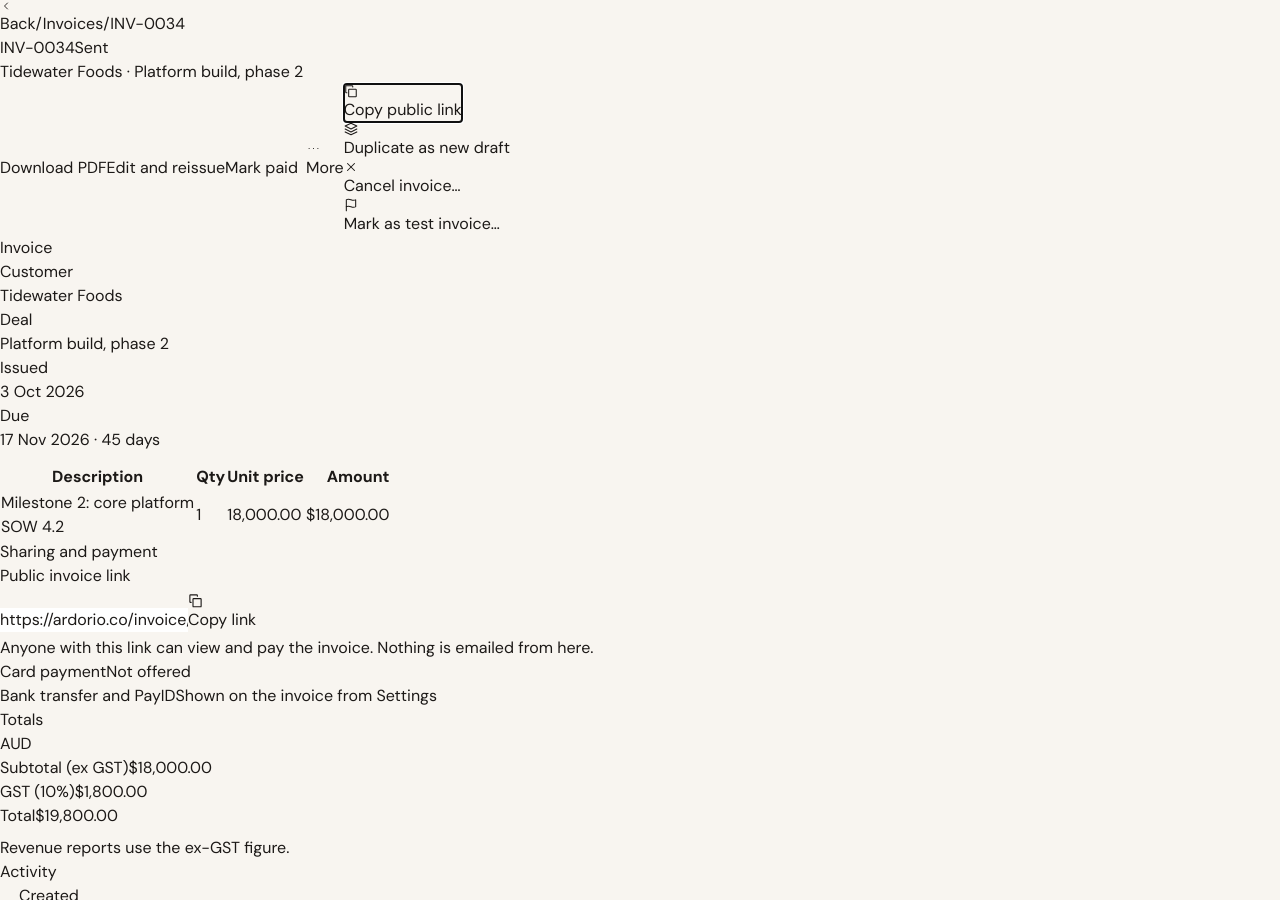
Scenario: the confirmation dialog › announces its result to assistive technology
This screenshot has width=1280, height=900.
Step 1. Click the menu item "Cancel invoice…" → {"x": 402, "y": 179}, box [344,160,461,198]
(page scrolled)
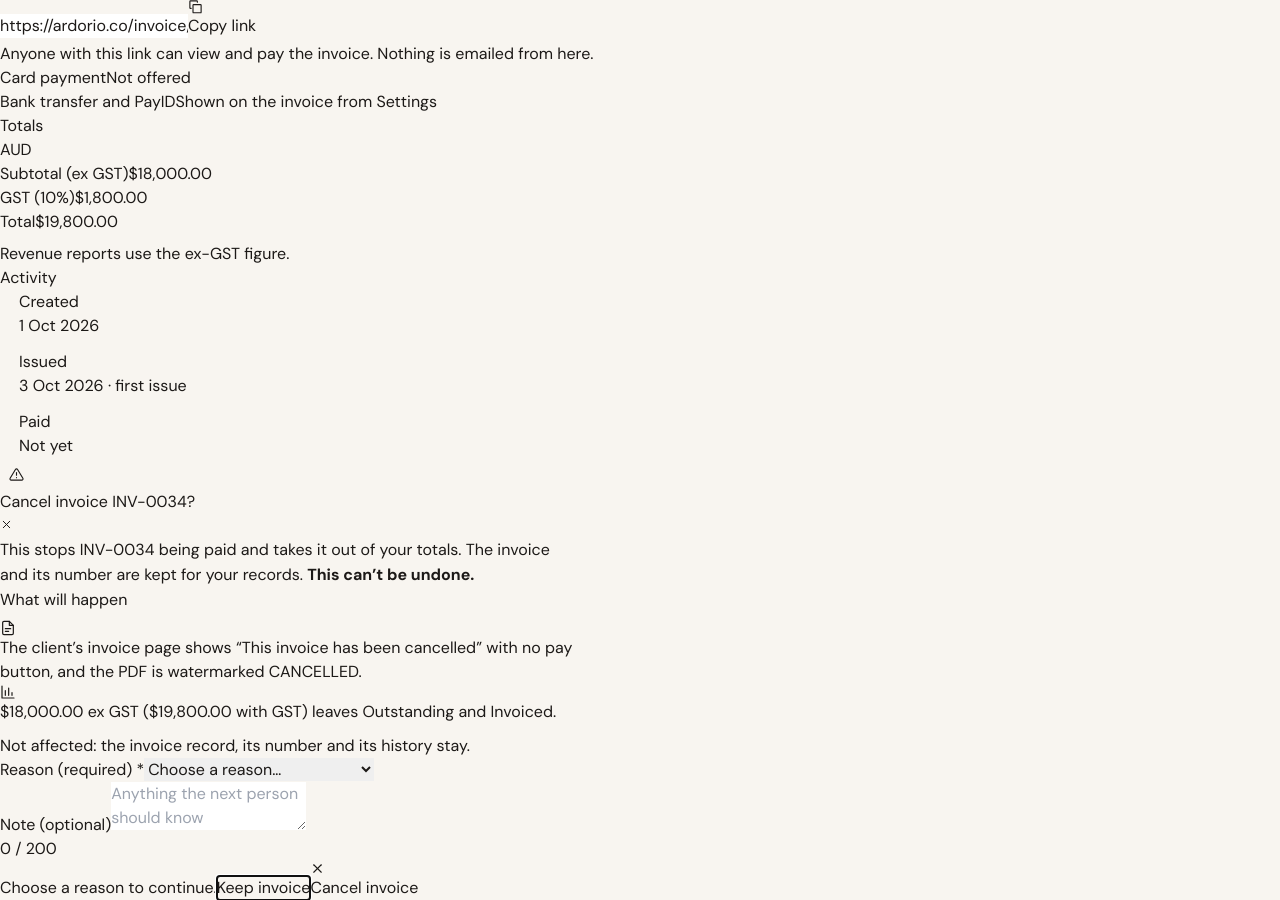
Check: the message "Choose a reason to continue." is shown, box [0,877,217,898]
